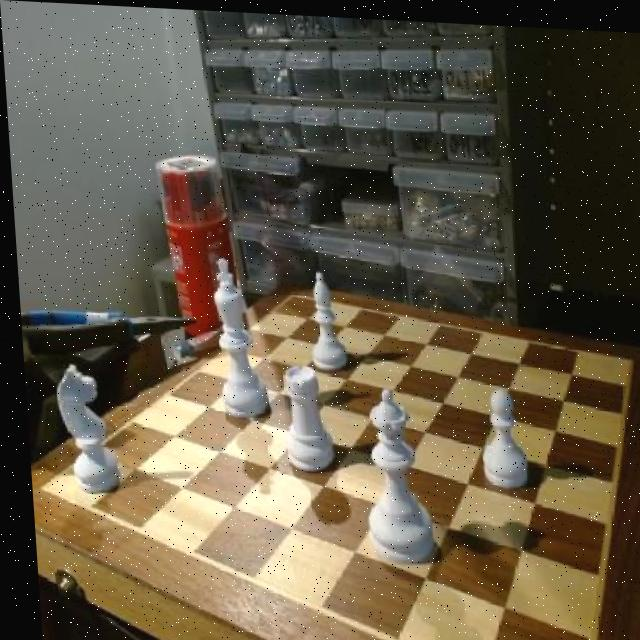black-rook: (300, 270, 340, 367)
white-bishop: (209, 258, 260, 417)
white-king: (50, 363, 112, 498)
white-knight: (471, 383, 529, 487)
white-pawn: (354, 388, 427, 560)
white-queen: (274, 360, 333, 477)
